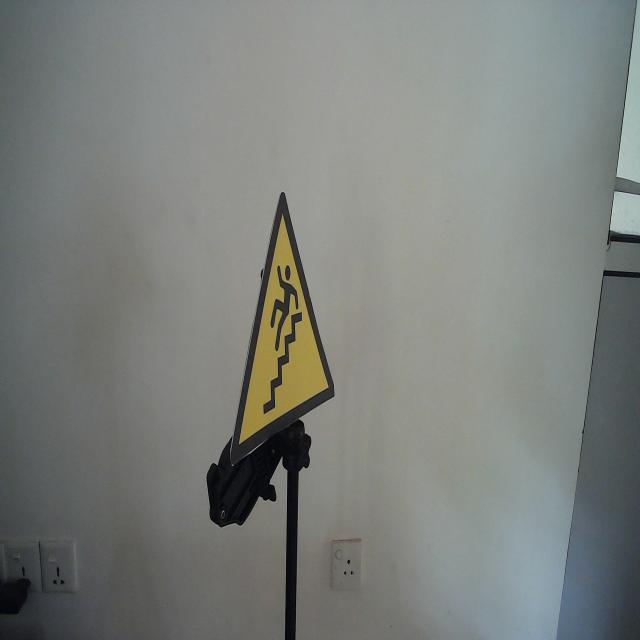stairs: (229, 189, 336, 470)
